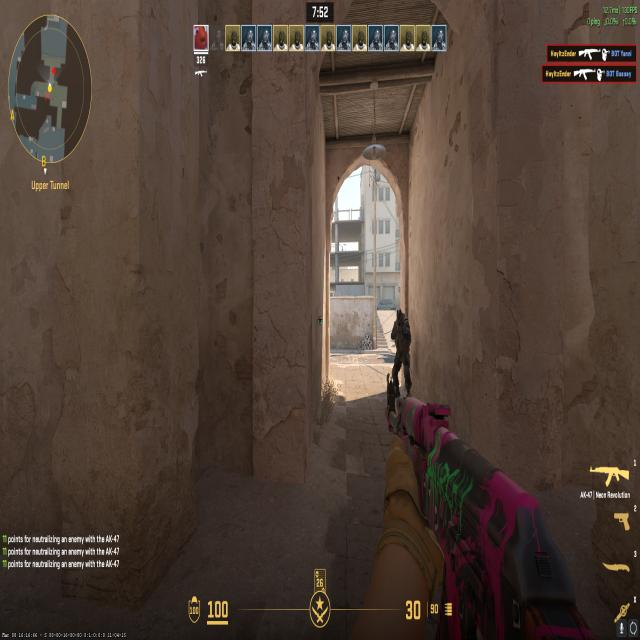ct: (390, 306, 414, 398)
